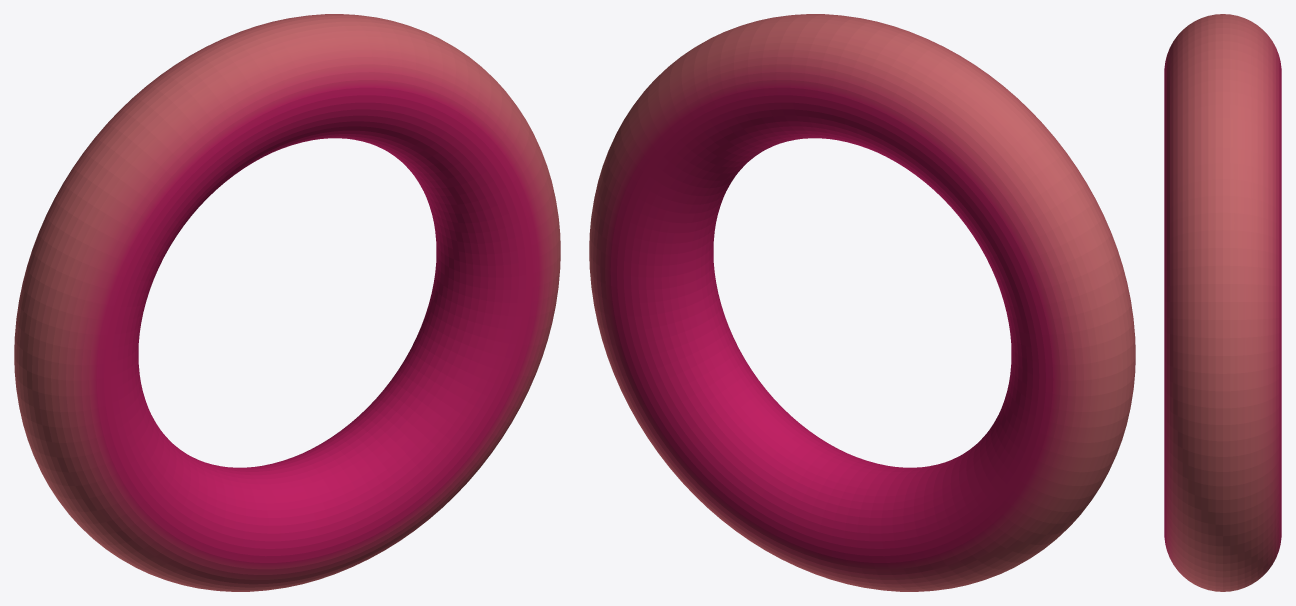
3 renders of one model, left to right at view 1: azimuth 30°, elevation 25°; view 2: azimuth 150°, elevation 25°; view 3: azimuth 270°, elevation 25°, orthographic. The views are drawn at different scales.
Parts seen in each view (by area): view 1: world; view 2: world; view 3: world.
Part boxes in pixels (x1,y1,x2,y2): world: (14, 14, 560, 591); world: (589, 14, 1135, 591); world: (1164, 14, 1281, 591).
Bounding box in the file's own units: 33.47 × 33.47 × 6.79.
